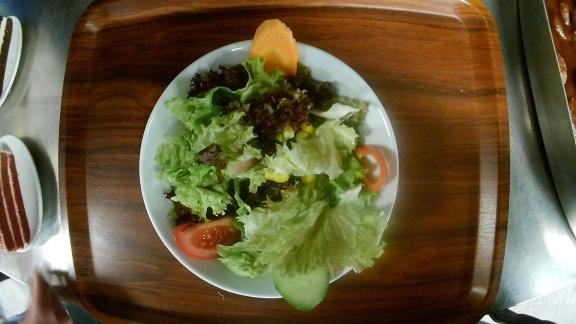salata: (140, 25, 398, 299)
